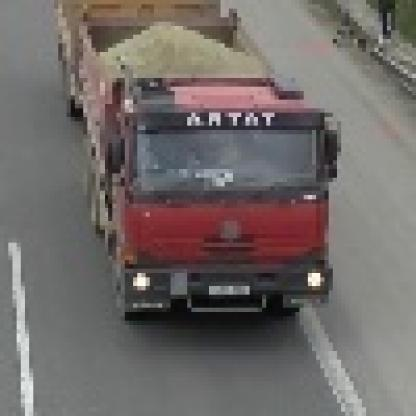truck: (51, 1, 338, 326)
